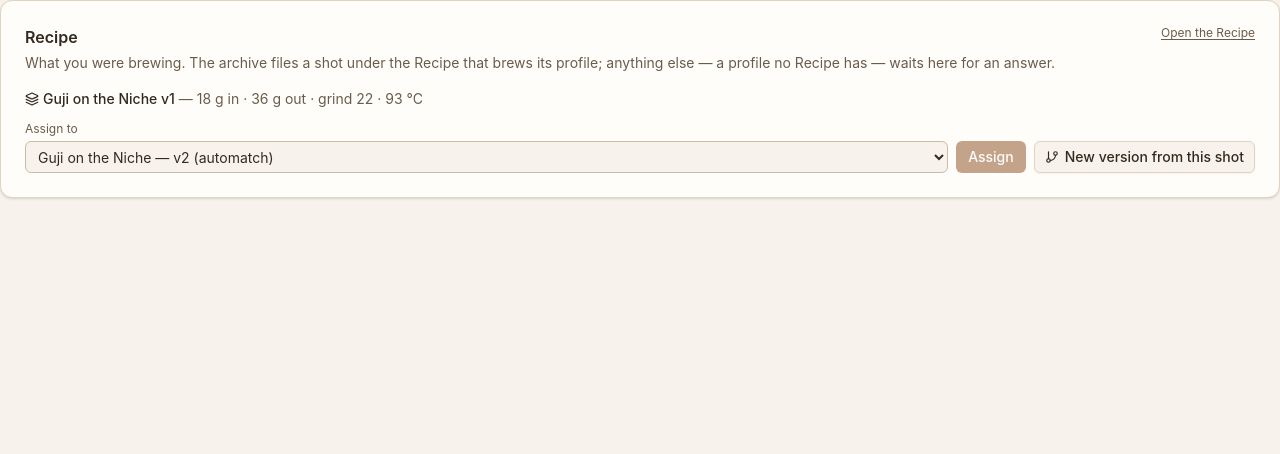
it: AssignToRecipe › says what is recorded: the doses from the judgement and the grind set here
Click the button "New version from this shot" at [1144, 157], box [1034,141,1255,173]
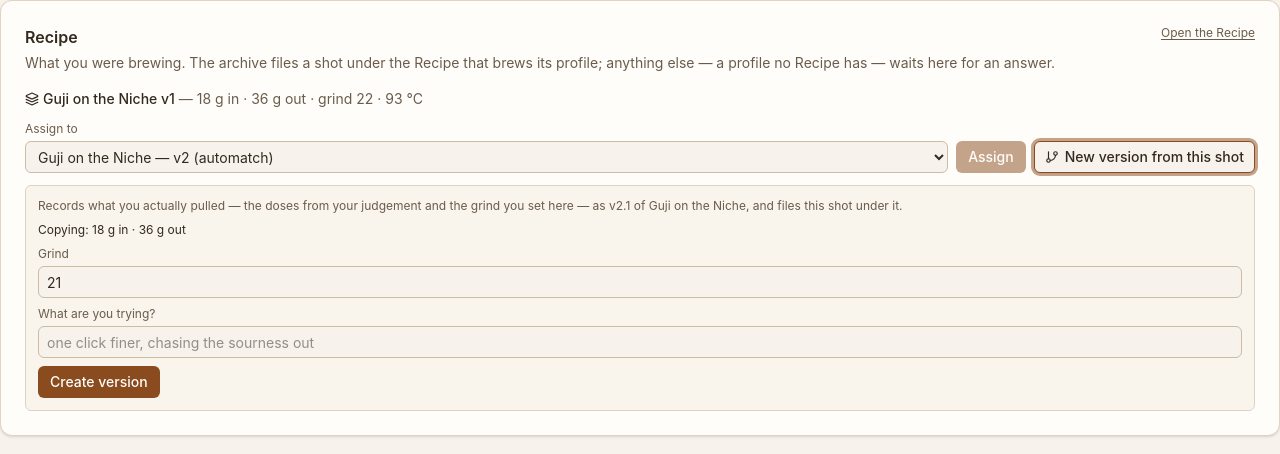
expect the element with test id "branch-form" shows "the doses from your judgement and the grind you set here": met, box [38,198,606,213]
expect the field labelled "Grind" holds "21": met, box [38,266,1242,298]
